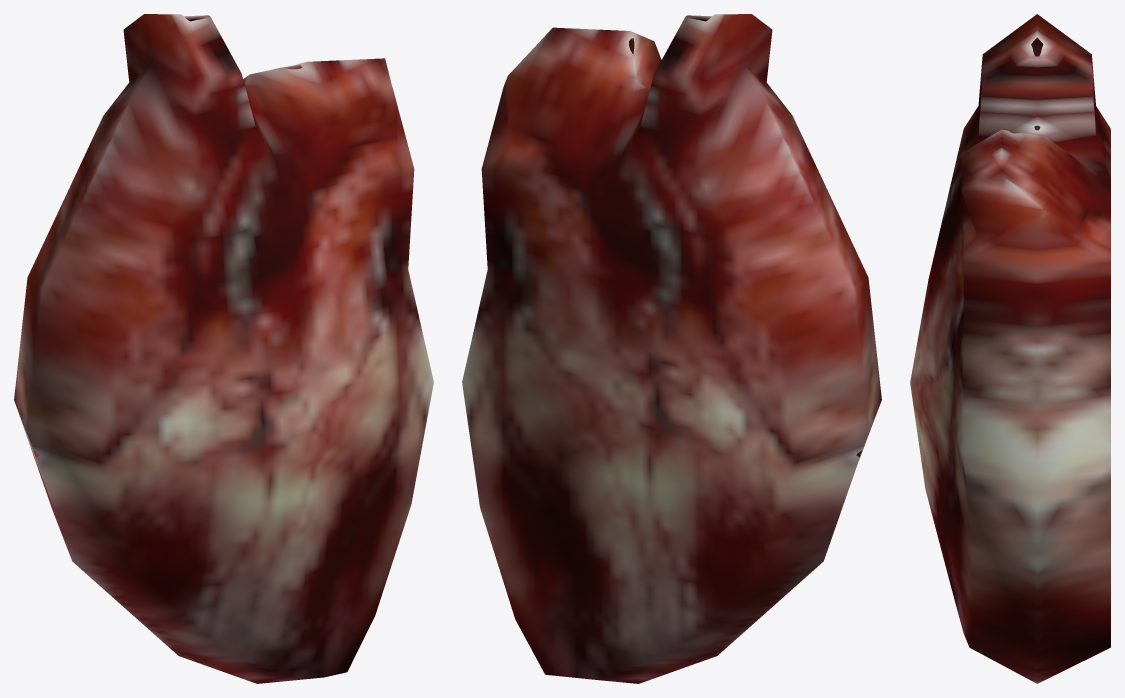
File: human_heart.FBX
The picture shows the model from 3 angles, left to right: view 1: azimuth 30°, elevation 25°; view 2: azimuth 150°, elevation 25°; view 3: azimuth 270°, elevation 25°; orthographic projection. The views are drawn at different scales.
Visible parts, largest first — view 1: heart; view 2: heart; view 3: heart.
Part boxes in pixels (x1,y1,x2,y2): heart: [14, 14, 433, 683]; heart: [462, 14, 881, 683]; heart: [910, 14, 1110, 683].
Size of the model in its own units: 9.93 by 17.24 by 5.25.
